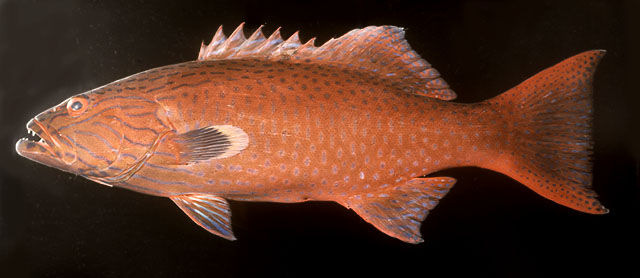fish: (14, 21, 612, 245)
